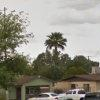Car: (24, 87, 89, 100)
